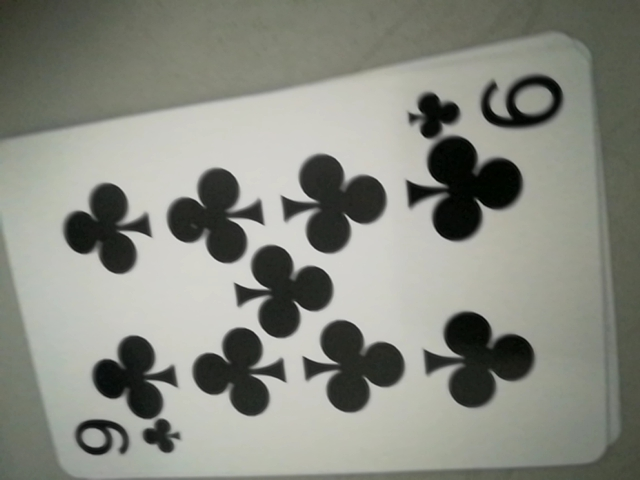mh 9: (405, 64, 565, 140), (68, 410, 188, 471)
